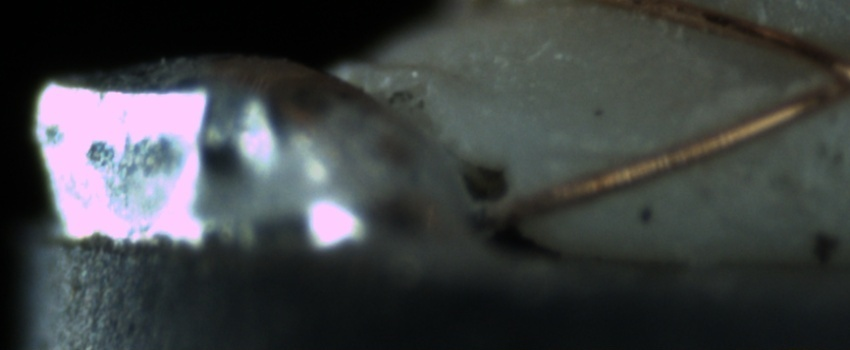DL: (545, 138, 676, 178)
